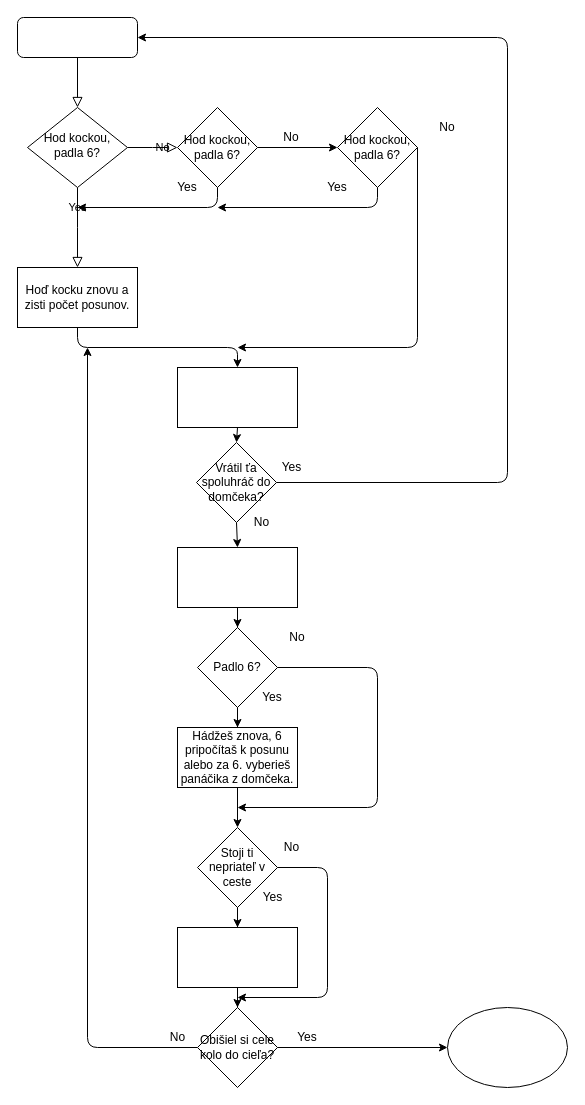
Some shapes in this 585 by 1105 pixel diagram are drawn without their labels. Here are the shapes that lost their labels. From the top down, the centre of each, then its label:
(77,37): Panáčik v domčeku
(237,397): Spoluhráč je na ťahu.
(237,577): Tvoj ťah
(237,957): Vráť ho do domčeka a zapíš si jeden bod
(507,1047): Koniec hry
